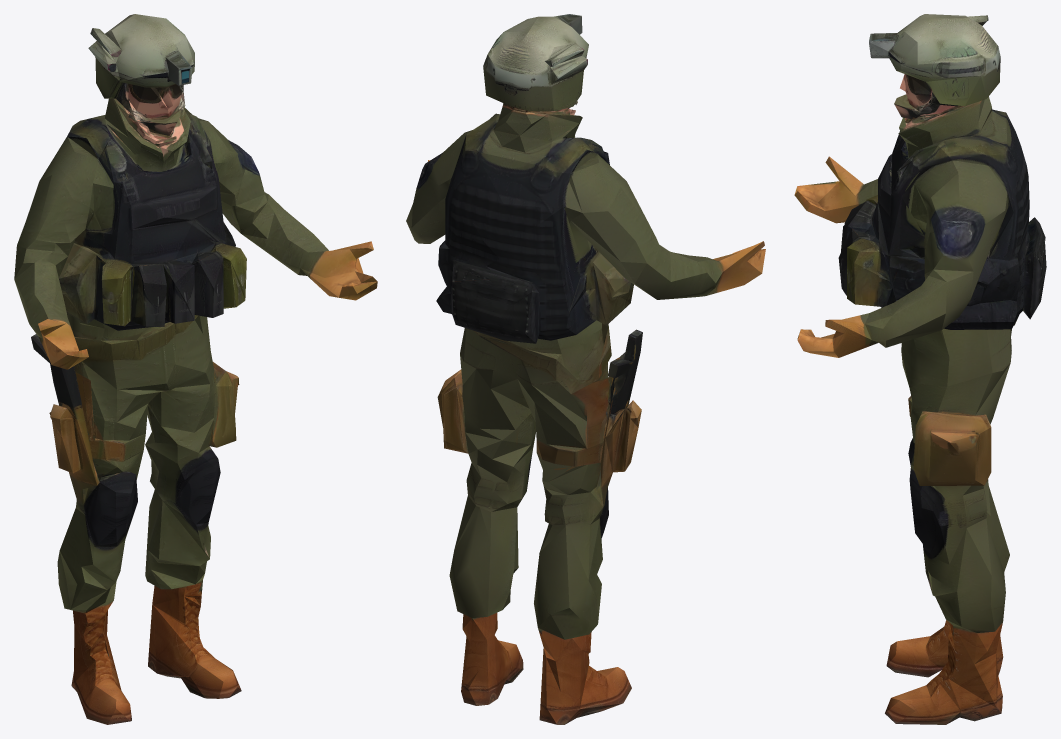
3 renders of one model, left to right at view 1: azimuth 30°, elevation 25°; view 2: azimuth 150°, elevation 25°; view 3: azimuth 270°, elevation 25°, orthographic.
Visible parts, largest first — view 1: output_unwrapped; view 2: output_unwrapped; view 3: output_unwrapped.
Boxes of the visible parts, x1,y1,x2,y2 form: output_unwrapped: (14, 14, 377, 724); output_unwrapped: (406, 14, 765, 724); output_unwrapped: (794, 14, 1046, 724).
Size of the model in its own units: 0.9816 by 1.89 by 0.6375.
Materials: 1 (1 with a texture image).
